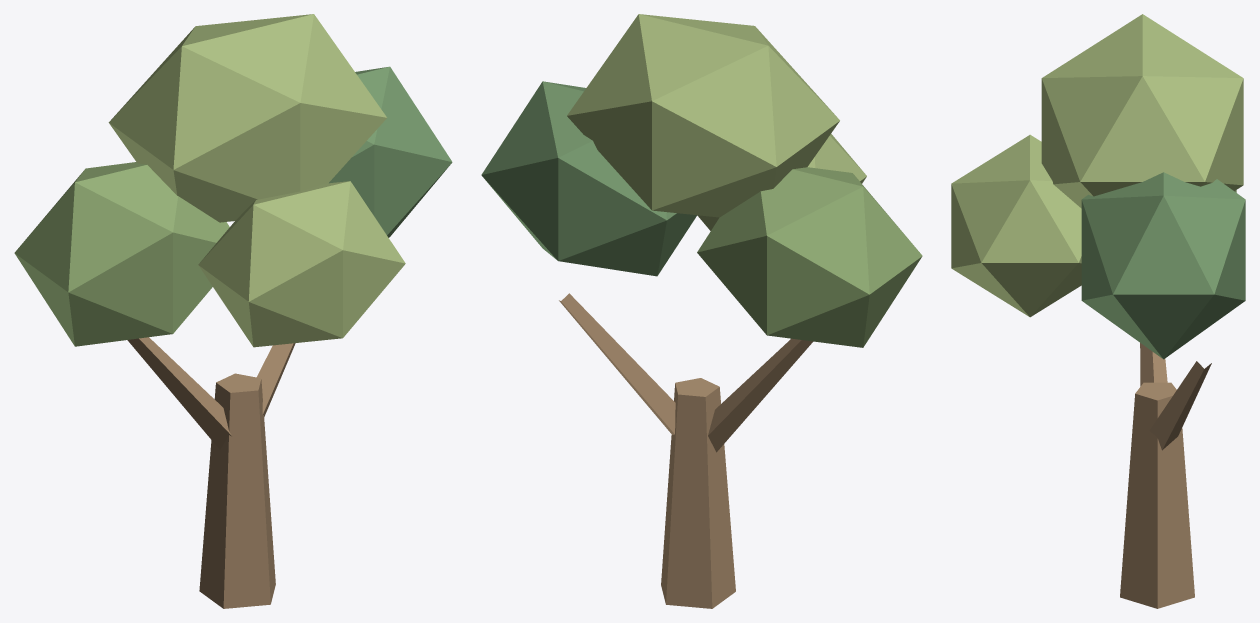
3 renders of one model, left to right at view 1: azimuth 30°, elevation 25°; view 2: azimuth 150°, elevation 25°; view 3: azimuth 270°, elevation 25°, orthographic. The views are drawn at different scales.
Visible parts, largest first — view 1: Body; view 2: Body; view 3: Body.
Boxes of the visible parts, x1,y1,x2,y2 form: Body: (14,14,452,608); Body: (481,14,922,608); Body: (951,14,1245,608).
Bounding box in the file's own units: 3.51 × 4.88 × 2.38.
